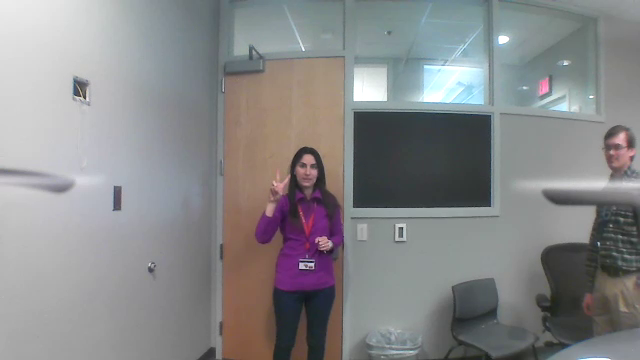peace: (265, 161, 291, 202)
